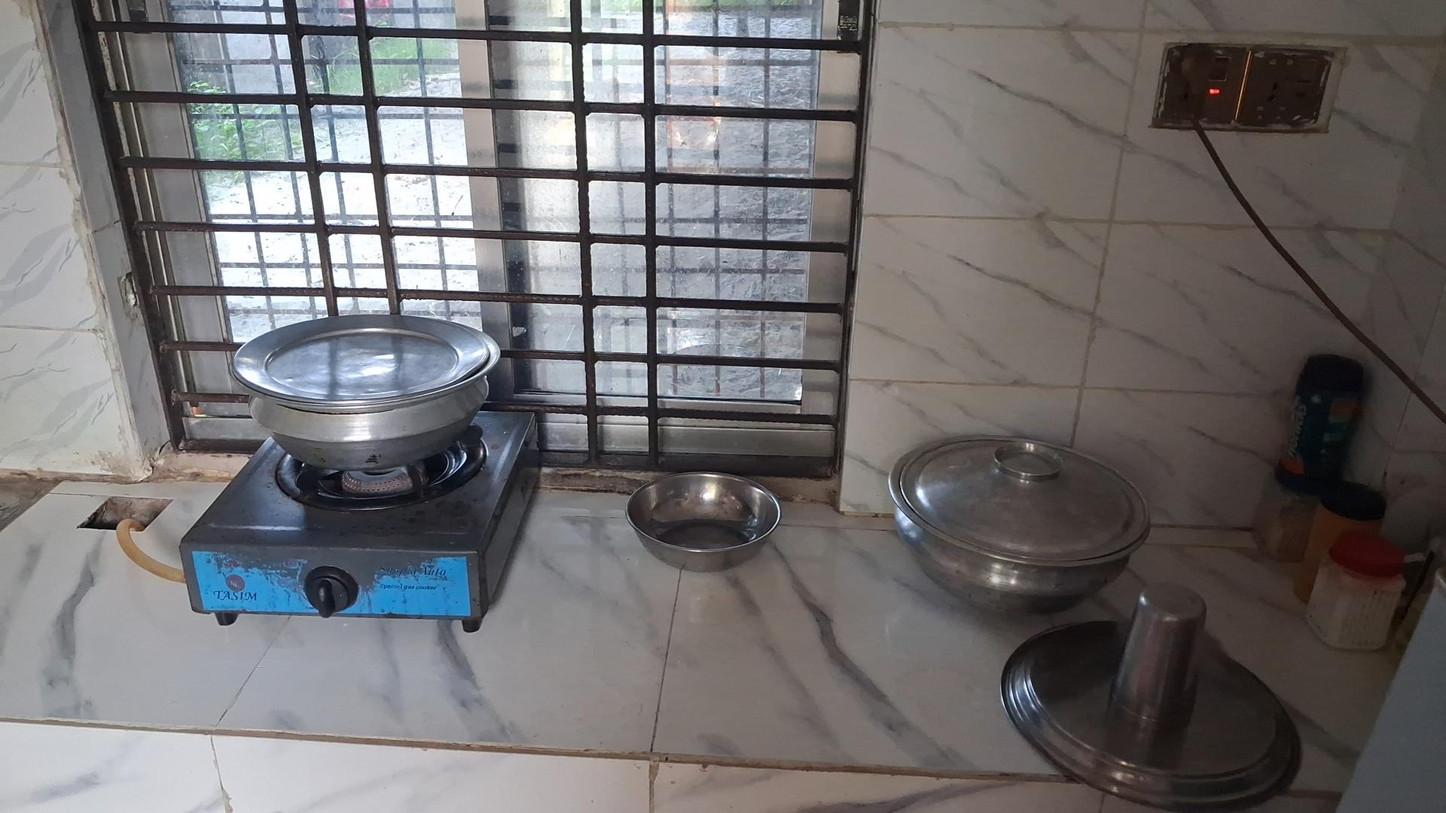Bowl: (627, 472, 782, 572)
Glass: (1124, 595, 1197, 728)
Jar: (1288, 345, 1368, 497), (1313, 542, 1400, 645)
Plate: (999, 623, 1299, 809)
Pot: (888, 432, 1151, 617), (236, 312, 502, 477)
